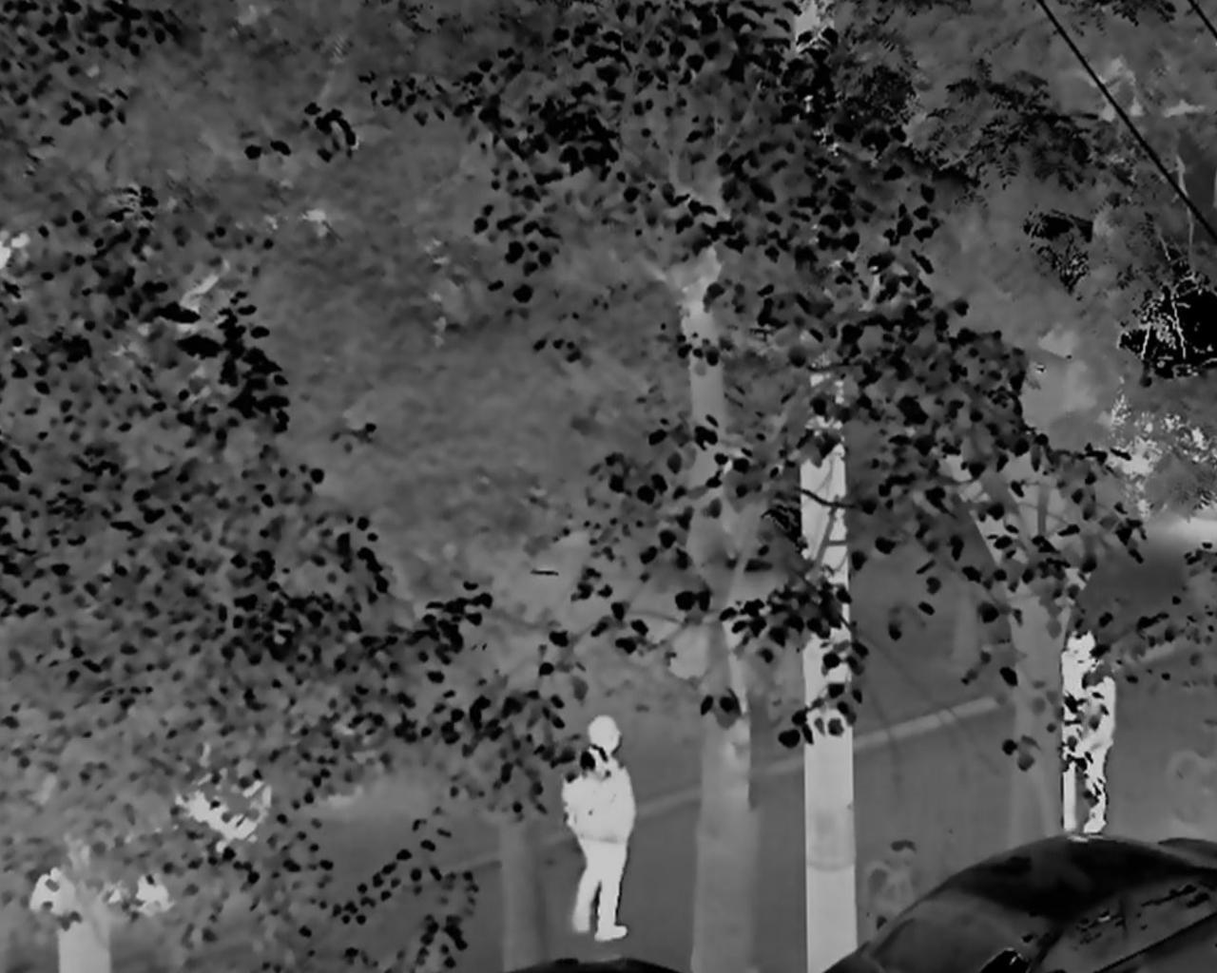person: (558, 719, 636, 940), (1053, 625, 1114, 839)
